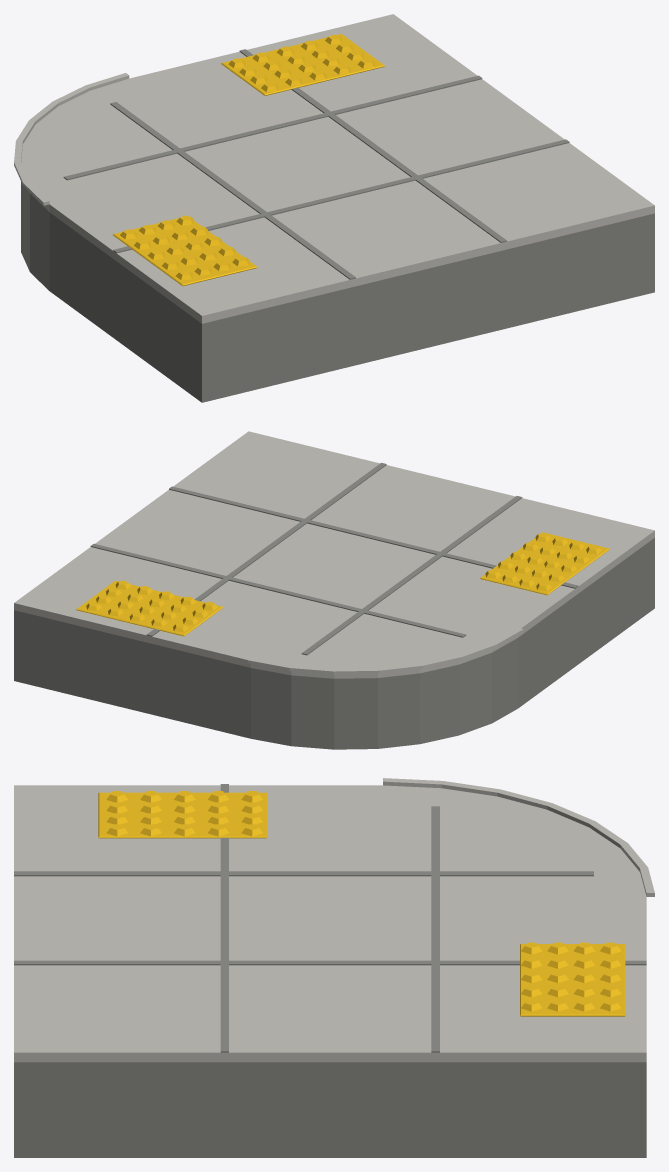
File: ROAD_13.obj
3 renders of one model, top to bottom at view 1: azimuth 30°, elevation 25°; view 2: azimuth 150°, elevation 25°; view 3: azimuth 270°, elevation 25°, orthographic. The views are drawn at different scales.
Visible parts, largest first — view 1: ROAD_13__paving, ROAD_13__base, ROAD_13__tactile, ROAD_13__seams, ROAD_13__curb_cap; view 2: ROAD_13__paving, ROAD_13__base, ROAD_13__tactile, ROAD_13__seams, ROAD_13__curb_cap; view 3: ROAD_13__paving, ROAD_13__base, ROAD_13__tactile, ROAD_13__seams, ROAD_13__curb_cap.
Boxes of the visible parts, x1,y1,x2,y2 form: ROAD_13__paving: (21,14,654,323); ROAD_13__base: (21,181,654,402); ROAD_13__tactile: (113,34,384,286); ROAD_13__seams: (63,49,569,279); ROAD_13__curb_cap: (14,73,129,205); ROAD_13__paving: (14,431,654,678); ROAD_13__base: (14,538,654,749); ROAD_13__tactile: (76,532,609,636); ROAD_13__seams: (90,462,578,655); ROAD_13__curb_cap: (248,628,523,674); ROAD_13__paving: (14,785,646,1062); ROAD_13__base: (14,1062,646,1157); ROAD_13__tactile: (98,791,625,1016); ROAD_13__seams: (14,784,646,1052); ROAD_13__curb_cap: (383,778,654,896).
Bounding box in the file's own units: 3.04 × 0.587 × 3.04.
